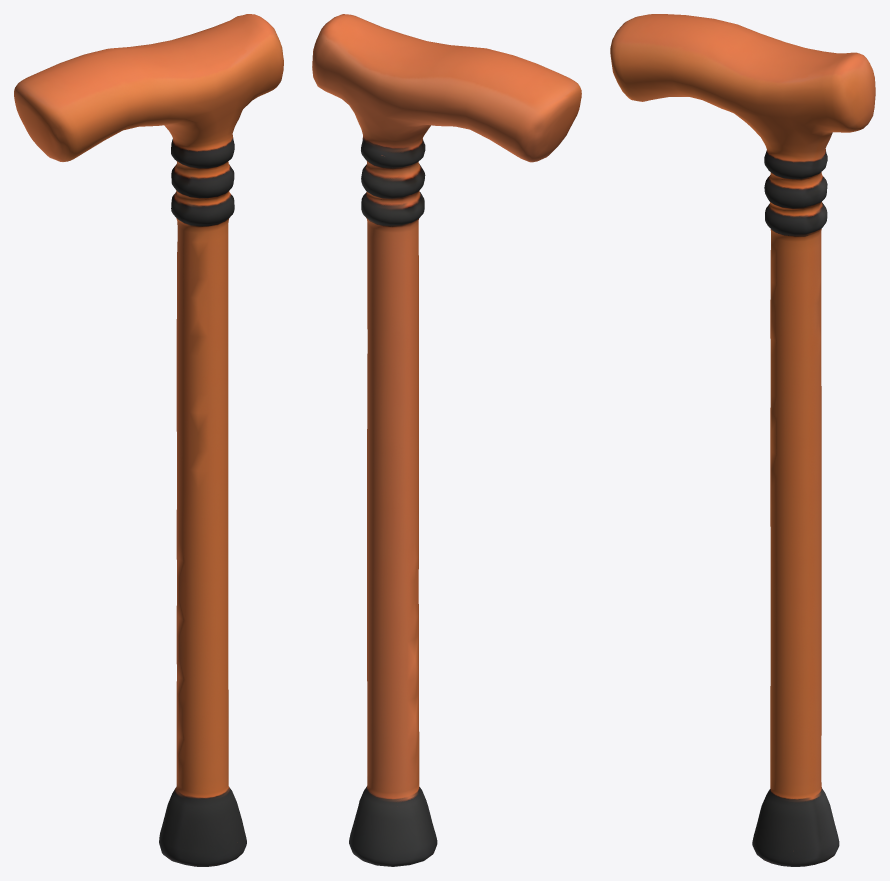
Rendered from Meshy_AI_Walking_Stick_Icon_0111132539_texture.fbx.
3 renders of one model, left to right at view 1: azimuth 30°, elevation 25°; view 2: azimuth 150°, elevation 25°; view 3: azimuth 330°, elevation 25°, orthographic.
Visible parts, largest first — view 1: Mesh0; view 2: Mesh0; view 3: Mesh0.
Part boxes in pixels (<box>): Mesh0: <box>14,14,283,866</box>; Mesh0: <box>312,14,581,866</box>; Mesh0: <box>610,14,875,866</box>.
Bounding box in the file's own units: 61.21 × 192 × 22.66.
Materials: 1 (1 with a texture image).
